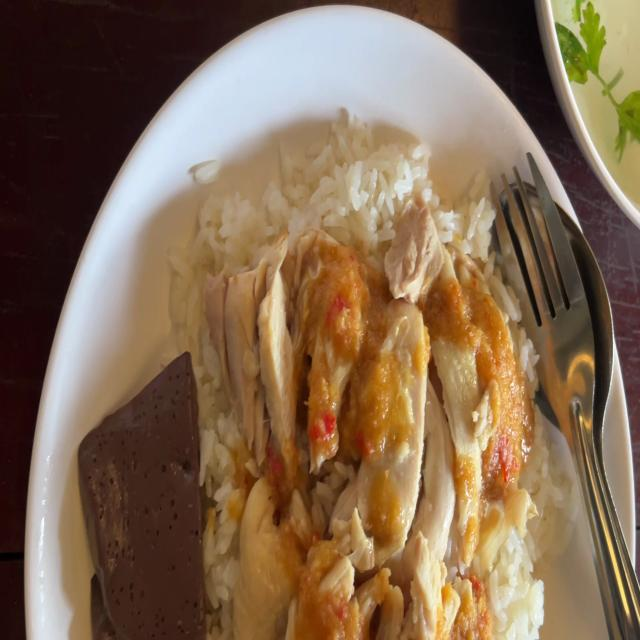boiled_chicken: (211, 244, 514, 620)
boiled_chicken_blood_jelly: (81, 353, 199, 624)
chicken_rice: (74, 129, 529, 640)
